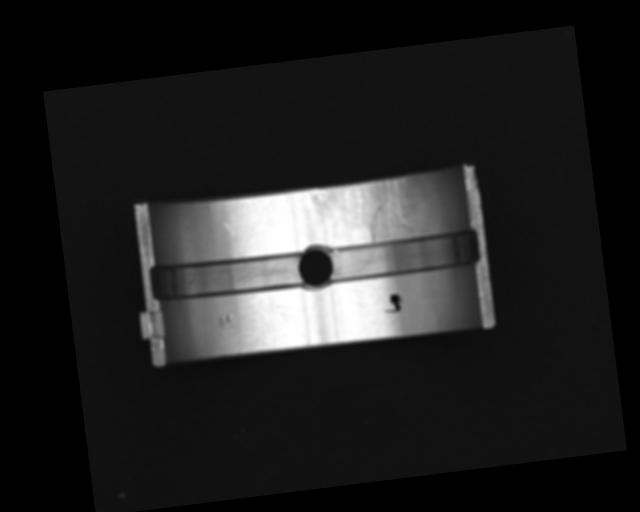blot: (383, 293, 404, 314)
bruise: (216, 314, 233, 329)
gap: (148, 249, 305, 303), (322, 229, 479, 283)
hole: (297, 241, 337, 291)
nick: (224, 219, 246, 258)
scratch: (312, 177, 419, 248)
